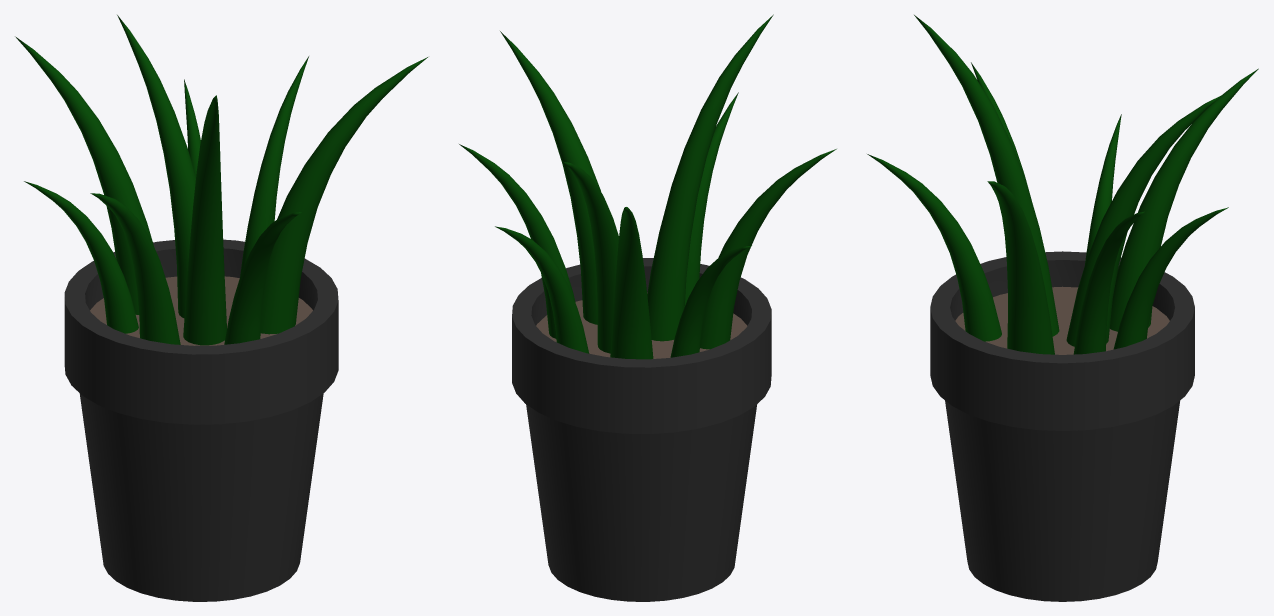
The model's file is Plante6_3.fbx.
The picture shows the model from 3 angles, left to right: view 1: azimuth 30°, elevation 25°; view 2: azimuth 150°, elevation 25°; view 3: azimuth 270°, elevation 25°; orthographic projection. The views are drawn at different scales.
Parts seen in each view (by area): view 1: pCylinder717, pCone5, pCone7, pCone4, pCone9, pCone2, pCone3, pCone1, pCone8, pCylinder721, pCone6; view 2: pCylinder717, pCone7, pCone5, pCone2, pCone4, pCone9, pCone6, pCone8, pCone3, pCone1, pCylinder721; view 3: pCylinder717, pCone4, pCone5, pCone7, pCone1, pCone9, pCone8, pCone6, pCylinder721, pCone3.
Boxes of the visible parts, x1=… form: pCylinder717: x1=64, y1=239, x2=338, y2=601; pCone5: x1=260, y1=57, x2=427, y2=334; pCone7: x1=183, y1=95, x2=226, y2=345; pCone4: x1=15, y1=36, x2=153, y2=314; pCone9: x1=117, y1=15, x2=195, y2=317; pCone2: x1=90, y1=193, x2=180, y2=344; pCone3: x1=24, y1=181, x2=138, y2=333; pCone1: x1=224, y1=212, x2=301, y2=344; pCone8: x1=240, y1=56, x2=308, y2=275; pCylinder721: x1=90, y1=276, x2=312, y2=345; pCone6: x1=184, y1=79, x2=200, y2=176; pCylinder717: x1=512, y1=258, x2=771, y2=601; pCone7: x1=647, y1=14, x2=773, y2=341; pCone5: x1=500, y1=31, x2=600, y2=324; pCone2: x1=700, y1=149, x2=836, y2=349; pCone4: x1=610, y1=207, x2=653, y2=359; pCone9: x1=563, y1=161, x2=618, y2=353; pCone6: x1=495, y1=226, x2=589, y2=353; pCone8: x1=459, y1=144, x2=575, y2=338; pCone3: x1=670, y1=245, x2=751, y2=357; pCone1: x1=684, y1=92, x2=738, y2=306; pCylinder721: x1=536, y1=292, x2=747, y2=358; pCylinder717: x1=930, y1=251, x2=1194, y2=601; pCone4: x1=1110, y1=68, x2=1258, y2=331; pCone5: x1=987, y1=181, x2=1054, y2=354; pCone7: x1=914, y1=15, x2=1059, y2=336; pCone1: x1=867, y1=154, x2=1001, y2=341; pCone9: x1=1066, y1=94, x2=1223, y2=346; pCone8: x1=1073, y1=211, x2=1144, y2=354; pCone6: x1=1113, y1=207, x2=1228, y2=349; pCylinder721: x1=955, y1=286, x2=1169, y2=354; pCone3: x1=1085, y1=114, x2=1121, y2=264.
Bounding box in the file's own units: 16.41 × 24.2 × 16.64.
